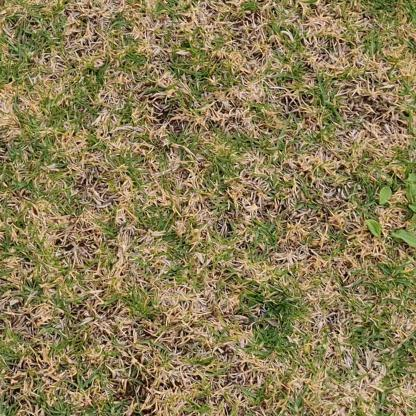Weeds: (365, 171, 415, 251)
